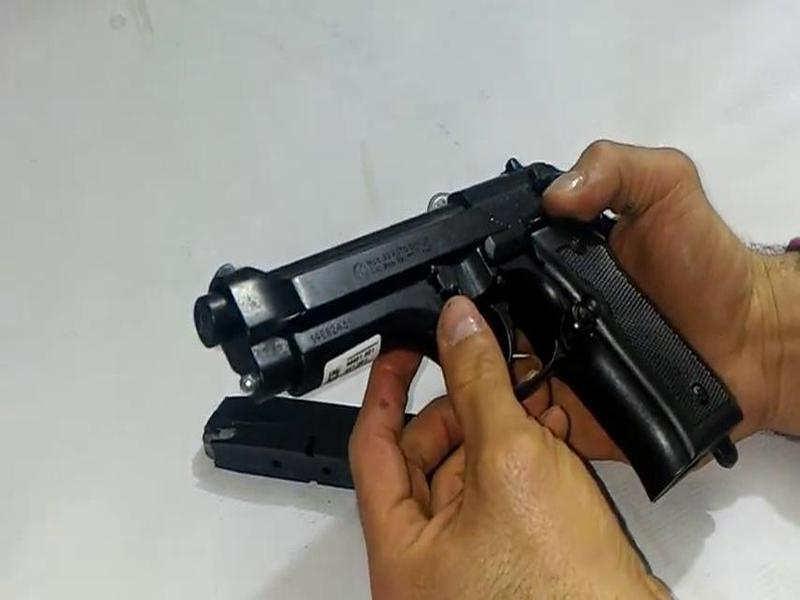Pistola: (190, 138, 743, 507)
